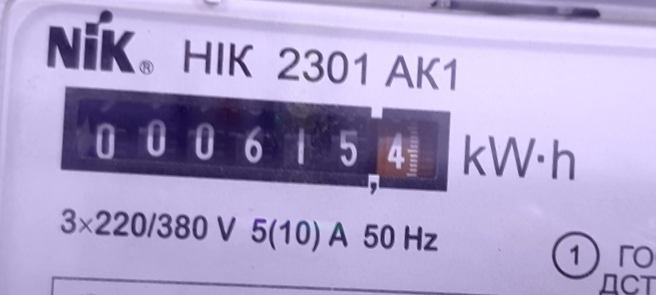0: (189, 118, 217, 163), (90, 118, 118, 161), (142, 116, 168, 157)
1: (292, 124, 308, 166)
4: (384, 128, 406, 170)
5: (334, 125, 360, 169)
6: (239, 122, 266, 164)
screen: (43, 66, 466, 214)
